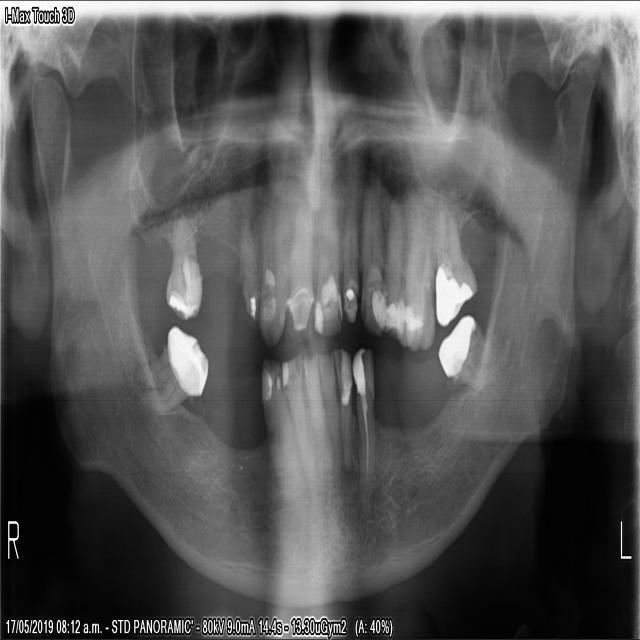LCD: (350, 342, 374, 479)
LCU: (358, 186, 385, 339)
LID: (315, 344, 341, 460), (333, 349, 355, 469)
LIU: (313, 197, 341, 338), (340, 197, 359, 322)
LMD: (434, 312, 487, 384)
LMU: (433, 193, 479, 329)
LPMU: (398, 186, 439, 357), (371, 196, 404, 341)
RCD: (258, 355, 292, 471)
RCU: (238, 198, 259, 321)
RID: (280, 344, 311, 467), (300, 353, 330, 460)
RIU: (256, 197, 290, 352), (287, 200, 315, 331)
RMU: (160, 213, 202, 319)
RPMD: (149, 319, 209, 413)
